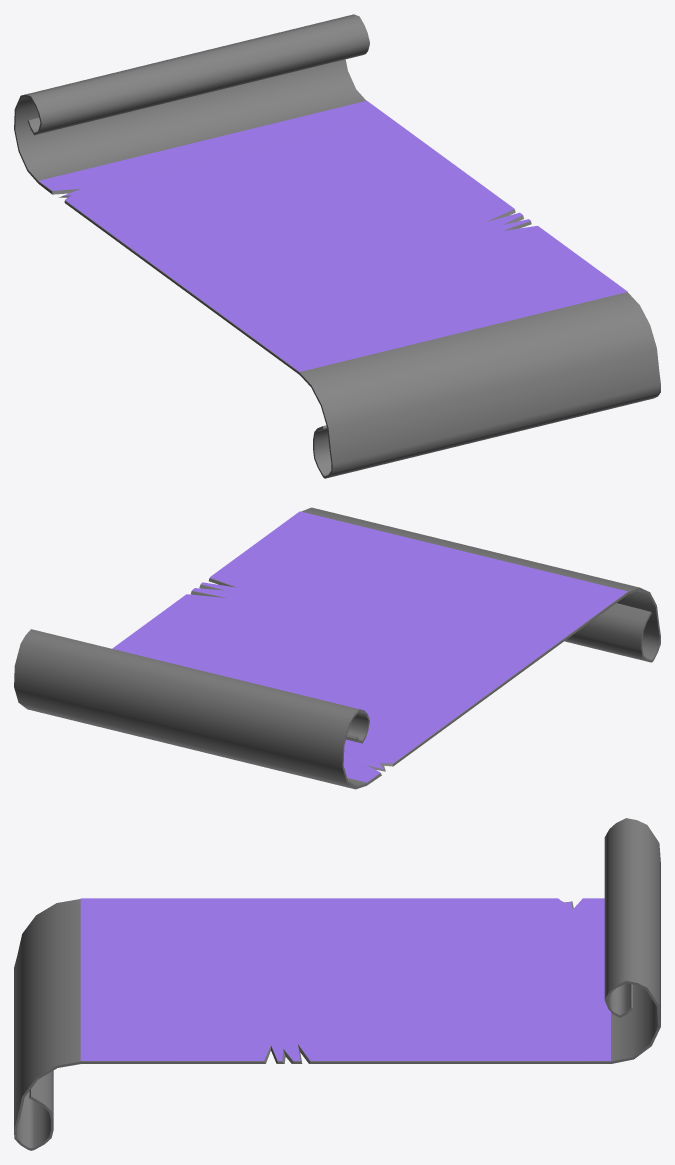
File: Scroll.fbx
3 renders of one model, top to bottom at view 1: azimuth 30°, elevation 25°; view 2: azimuth 150°, elevation 25°; view 3: azimuth 270°, elevation 25°, orthographic.
Parts seen in each view (by area): view 1: ScrollWriting, Scroll; view 2: ScrollWriting, Scroll; view 3: ScrollWriting, Scroll.
Boxes of the visible parts, x1=… form: ScrollWriting: x1=39, y1=101, x2=627, y2=371; Scroll: x1=14, y1=14, x2=660, y2=478; ScrollWriting: x1=112, y1=511, x2=627, y2=782; Scroll: x1=14, y1=507, x2=660, y2=789; ScrollWriting: x1=80, y1=898, x2=610, y2=1060; Scroll: x1=14, y1=818, x2=660, y2=1150.
Bounding box in the file's own units: 15.78 × 7.67 × 26.46.
